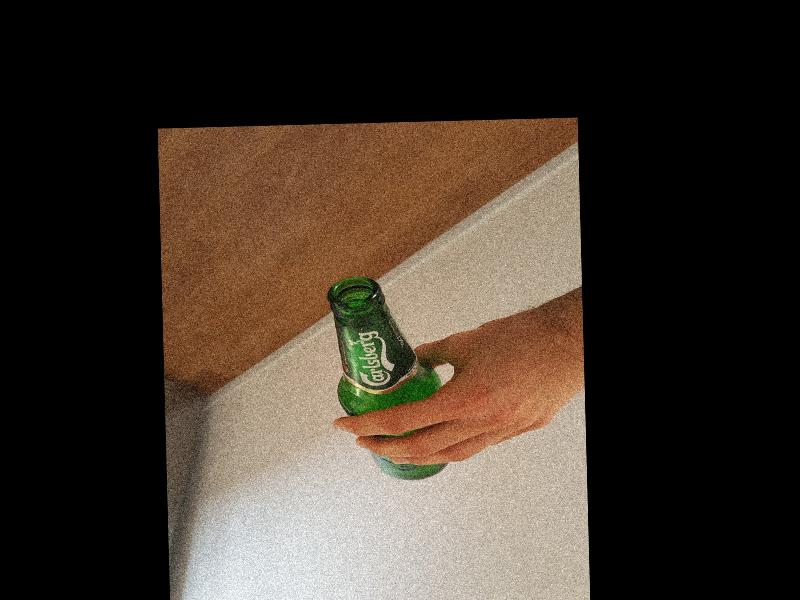Beer: (327, 273, 444, 481)
